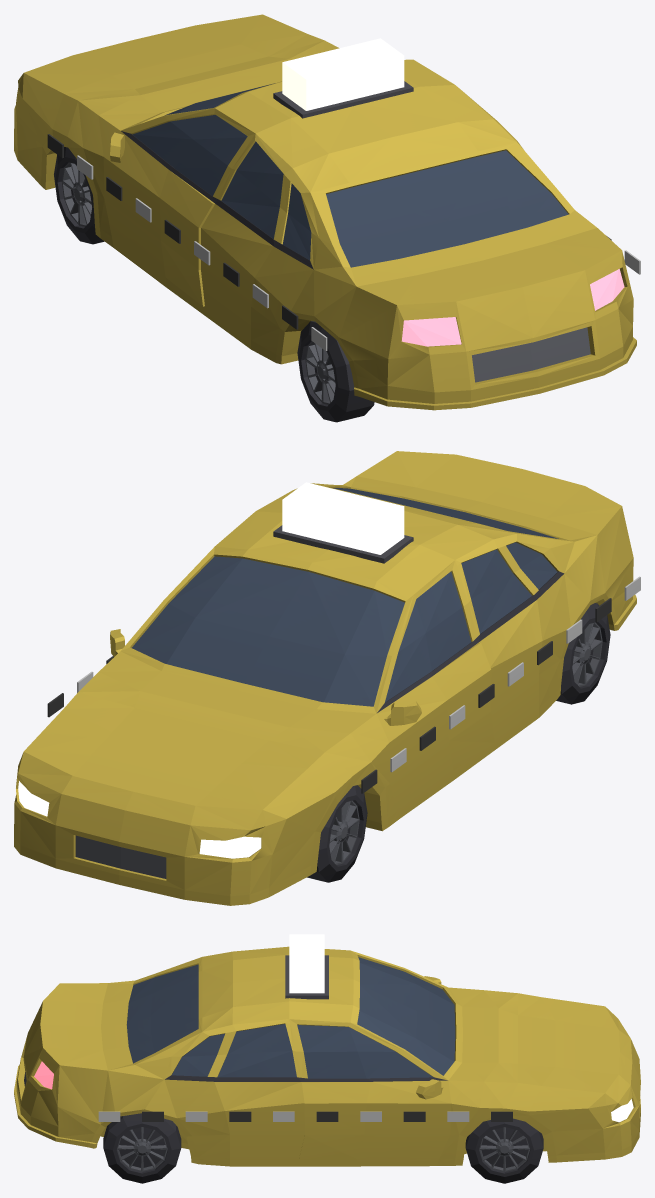
Rendered from car_taxi_yellow.glb.
The picture shows the model from 3 angles, top to bottom: view 1: azimuth 30°, elevation 25°; view 2: azimuth 150°, elevation 25°; view 3: azimuth 270°, elevation 25°; orthographic projection. The views are drawn at different scales.
Parts seen in each view (by area): view 1: car_taxi_yellow; view 2: car_taxi_yellow; view 3: car_taxi_yellow.
Boxes of the visible parts, <box> form: car_taxi_yellow: <box>14,14,640,422</box>; car_taxi_yellow: <box>14,451,640,905</box>; car_taxi_yellow: <box>14,934,640,1183</box>.
Bounding box in the file's own units: 1.99 × 1.49 × 4.6.
